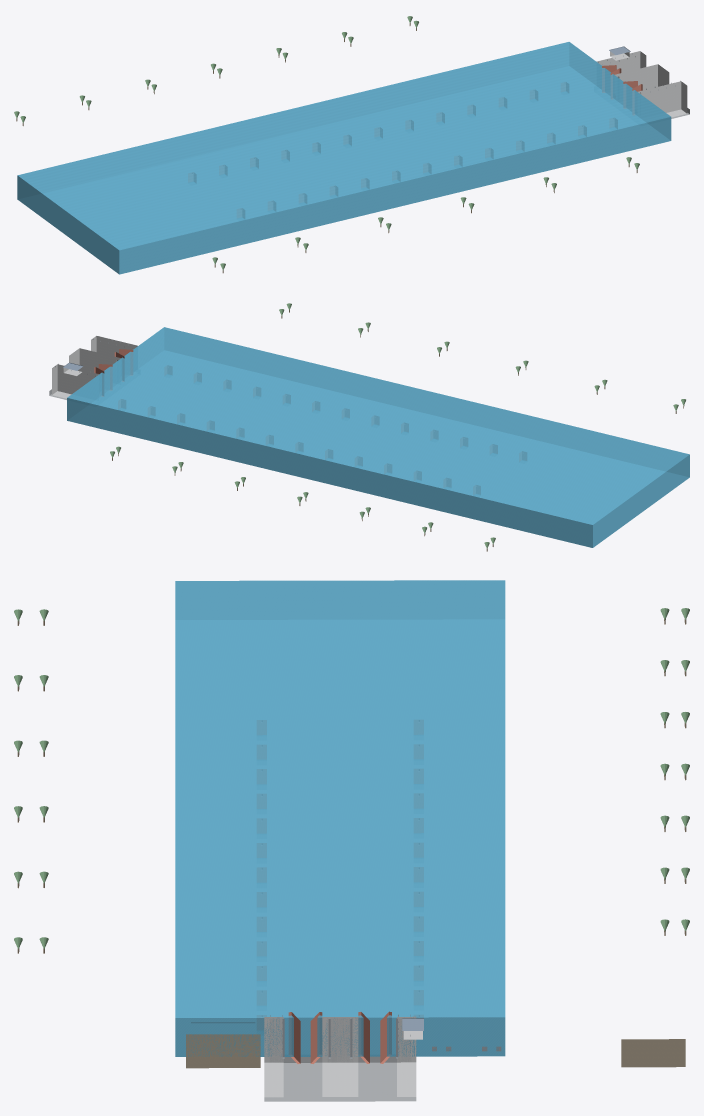
File: qishi-z2-upstream.glb
The picture shows the model from 3 angles, top to bottom: view 1: azimuth 30°, elevation 25°; view 2: azimuth 150°, elevation 25°; view 3: azimuth 270°, elevation 25°; orthographic projection. The views are drawn at different scales.
Parts seen in each view (by area): view 1: water_water, concreteLight_structure, concrete_structure, tree_detail, gate_gate; view 2: water_water, concreteLight_structure, concrete_structure, tree_detail, gate_gate; view 3: water_water, concrete_structure, concreteLight_structure, earth_structure, concreteDark_structure, gate_gate, tree_detail.
Boxes of the visible parts, box(x1,y1,x2,y2) form: water_water: box(17, 42, 671, 274); concreteLight_structure: box(596, 51, 687, 117); concrete_structure: box(188, 82, 617, 218); tree_detail: box(14, 16, 639, 270); gate_gate: box(602, 65, 642, 114); water_water: box(67, 327, 689, 547); concreteLight_structure: box(52, 336, 137, 398); concrete_structure: box(118, 366, 526, 494); tree_detail: box(110, 303, 685, 548); gate_gate: box(94, 349, 133, 396); water_water: box(175, 580, 505, 1056); concrete_structure: box(257, 720, 423, 1062); concreteLight_structure: box(264, 1016, 416, 1097); earth_structure: box(186, 1034, 685, 1068); concreteDark_structure: box(264, 1056, 416, 1101); gate_gate: box(288, 1011, 391, 1063); tree_detail: box(14, 608, 689, 949).
Size of the model in its own units: 867 by 56.82 by 525.
Materials: 11 (11 with a texture image).
